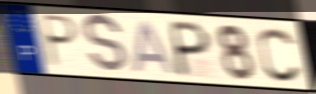8: (216, 22, 257, 82)
A: (131, 19, 179, 76)
C: (256, 25, 303, 84)
P: (170, 19, 213, 80), (40, 12, 80, 69)
S: (82, 12, 129, 76)
